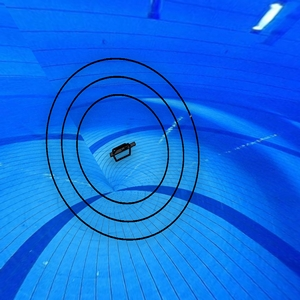circle: (43, 52, 204, 246)
submarine: (106, 138, 141, 164)
